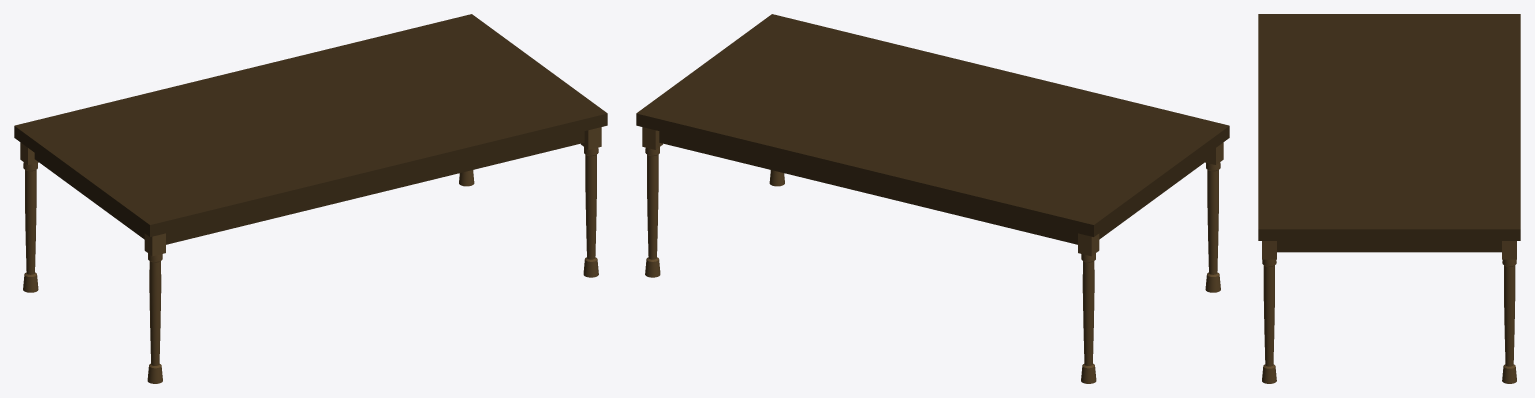
Rendered from Lodge_Table.fbx.
3 views of the same model, side by side, from view 1: azimuth 30°, elevation 25°; view 2: azimuth 150°, elevation 25°; view 3: azimuth 270°, elevation 25° (orthographic). The views are drawn at different scales.
Parts seen in each view (by area): view 1: pCube60; view 2: pCube60; view 3: pCube60.
Part boxes in pixels (left/top/right/bottom): pCube60: left=14, top=14, right=607, bottom=383; pCube60: left=636, top=14, right=1229, bottom=383; pCube60: left=1258, top=14, right=1520, bottom=383.
Bounding box in the file's own units: 3.39 × 1.15 × 1.74.
